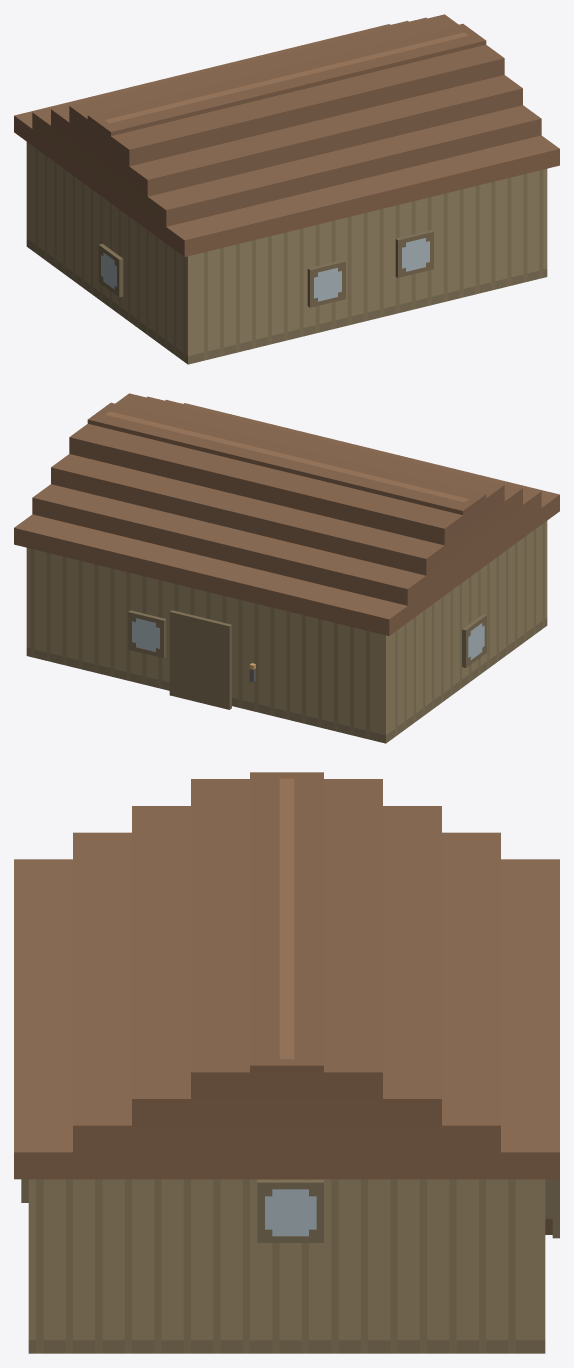
Rendered from carpinteria_04.glb.
The picture shows the model from 3 angles, top to bottom: view 1: azimuth 30°, elevation 25°; view 2: azimuth 150°, elevation 25°; view 3: azimuth 270°, elevation 25°; orthographic projection. The views are drawn at different scales.
Visible parts, largest first — view 1: carpinteria_04; view 2: carpinteria_04; view 3: carpinteria_04.
Boxes of the visible parts, bbox=[...] form: carpinteria_04: bbox=[14, 14, 559, 364]; carpinteria_04: bbox=[14, 393, 559, 743]; carpinteria_04: bbox=[14, 772, 559, 1353].
Bounding box in the file's own units: 9.4 × 4.4 × 7.4.
